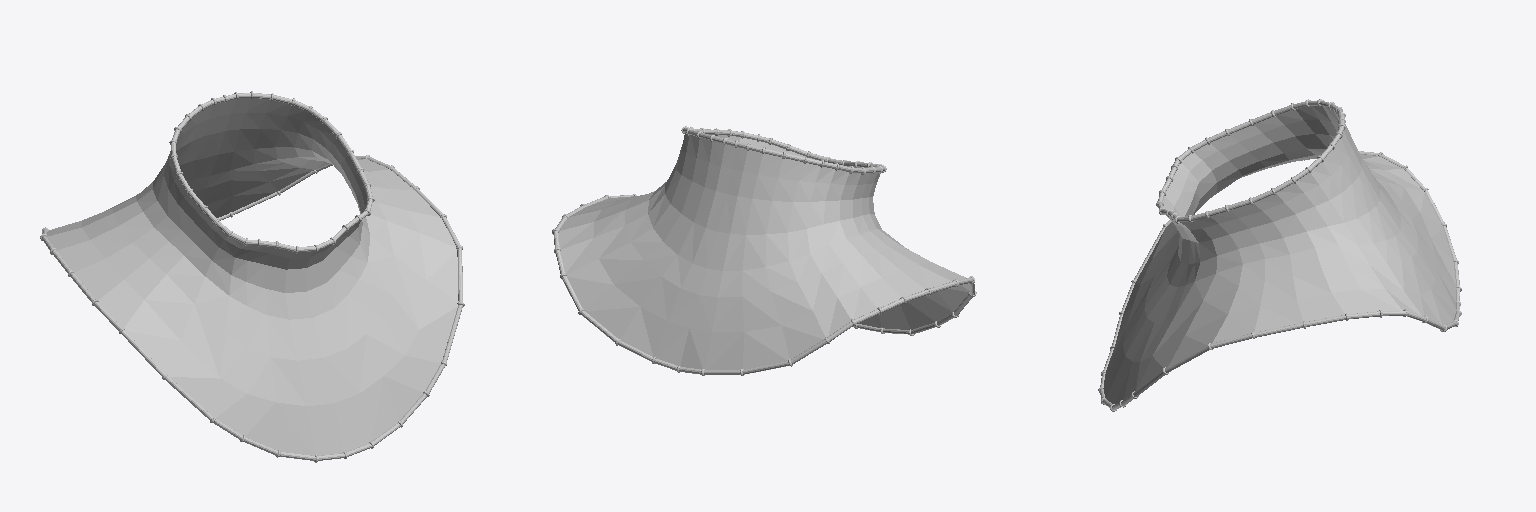
File: Neck_gorget_Kolchuznij.obj
The picture shows the model from 3 angles: view 1: azimuth 30°, elevation 25°; view 2: azimuth 150°, elevation 25°; view 3: azimuth 270°, elevation 25°; orthographic projection.
Visible parts, largest first — view 1: Neck_Gorget_kolchuznhnij; view 2: Neck_Gorget_kolchuznhnij; view 3: Neck_Gorget_kolchuznhnij.
Part boxes in pixels (x1,y1,x2,y2): Neck_Gorget_kolchuznhnij: (40,91,464,462); Neck_Gorget_kolchuznhnij: (552,126,976,375); Neck_Gorget_kolchuznhnij: (1098,99,1461,411).
Size of the model in its own units: 1.67 by 1.24 by 1.48.